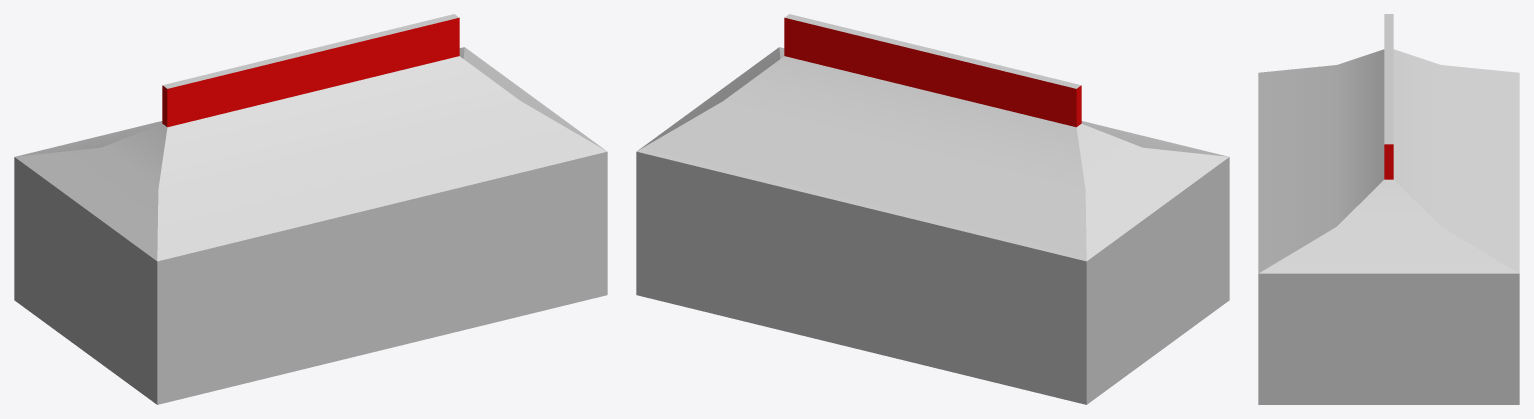
The model's file is medtent.fbx.
3 renders of one model, left to right at view 1: azimuth 30°, elevation 25°; view 2: azimuth 150°, elevation 25°; view 3: azimuth 270°, elevation 25°, orthographic. The views are drawn at different scales.
Visible parts, largest first — view 1: medtent; view 2: medtent; view 3: medtent.
Part boxes in pixels (left/top/right/bottom): medtent: left=14, top=14, right=607, bottom=404; medtent: left=636, top=14, right=1229, bottom=404; medtent: left=1258, top=14, right=1519, bottom=404.
Size of the model in its own units: 765 by 400 by 421.
